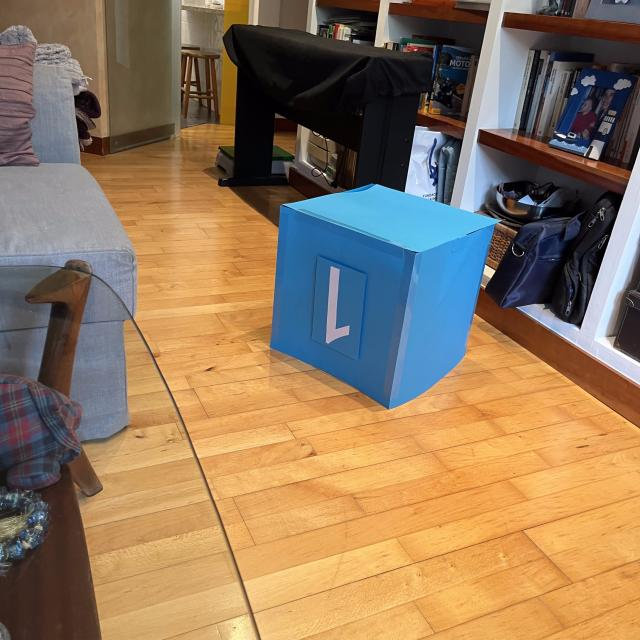box: (266, 179, 502, 411)
